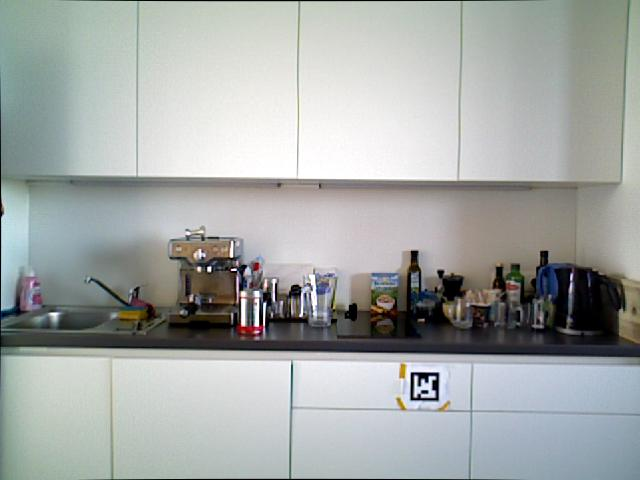bench: (16, 263, 46, 314), (505, 262, 524, 327), (406, 249, 421, 314), (491, 262, 505, 318), (534, 250, 548, 296)
bird: (375, 292, 397, 312)
couch: (2, 303, 118, 332)
handbag: (298, 273, 339, 332), (446, 297, 475, 333), (470, 299, 491, 328)
